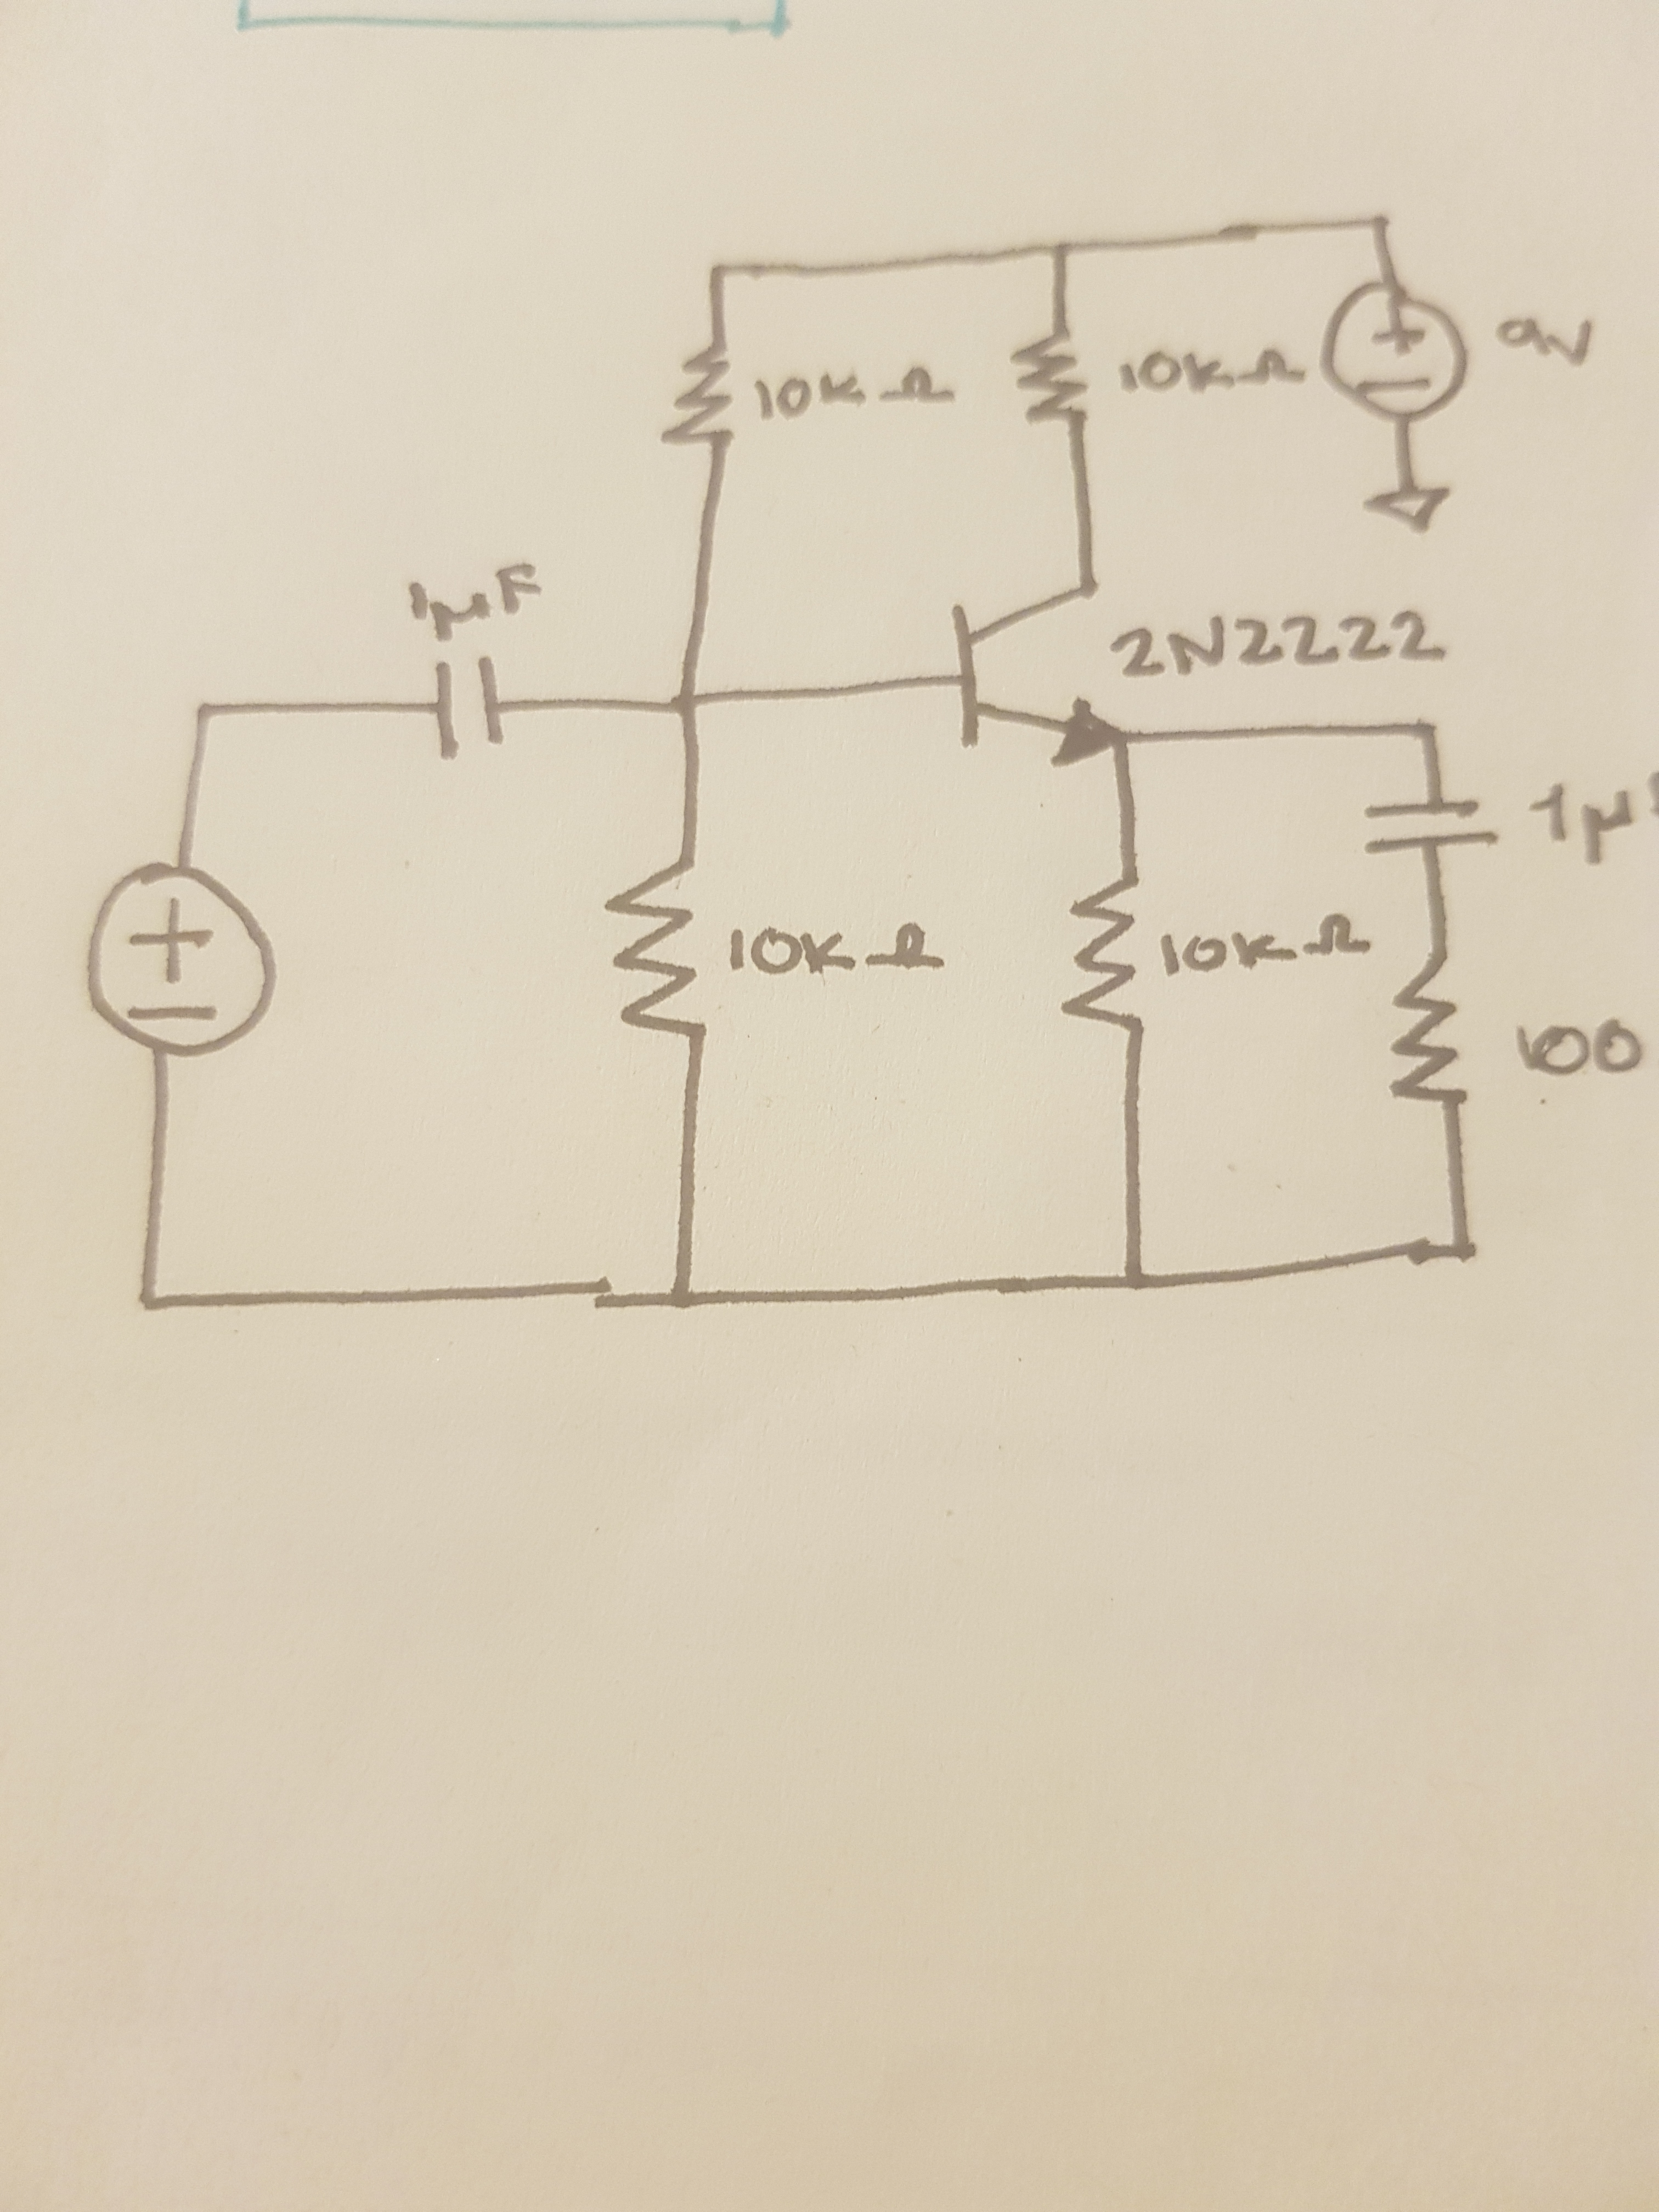capacitor.unpolarized: (1351, 794, 1506, 859), (429, 651, 507, 765)
gnd: (1361, 482, 1457, 536)
junction: (664, 1280, 701, 1318), (1443, 1233, 1481, 1270), (1117, 1263, 1154, 1299), (669, 686, 702, 726), (132, 1282, 167, 1317), (190, 695, 223, 730), (1413, 714, 1443, 749), (1047, 237, 1075, 260), (702, 260, 728, 282), (1364, 211, 1392, 232)
resistor: (598, 859, 714, 1045), (1049, 873, 1150, 1040), (1382, 953, 1471, 1108), (655, 341, 739, 453), (1007, 327, 1093, 430)
text: (1117, 601, 1466, 695), (721, 913, 953, 991), (1155, 906, 1375, 979), (401, 556, 565, 648), (1528, 759, 1659, 860), (748, 366, 964, 425), (1110, 343, 1307, 395), (1506, 1014, 1642, 1082), (1488, 307, 1614, 378)
transistor: (945, 575, 1140, 772)
voltage.dc: (75, 850, 288, 1062), (1314, 279, 1471, 423)
